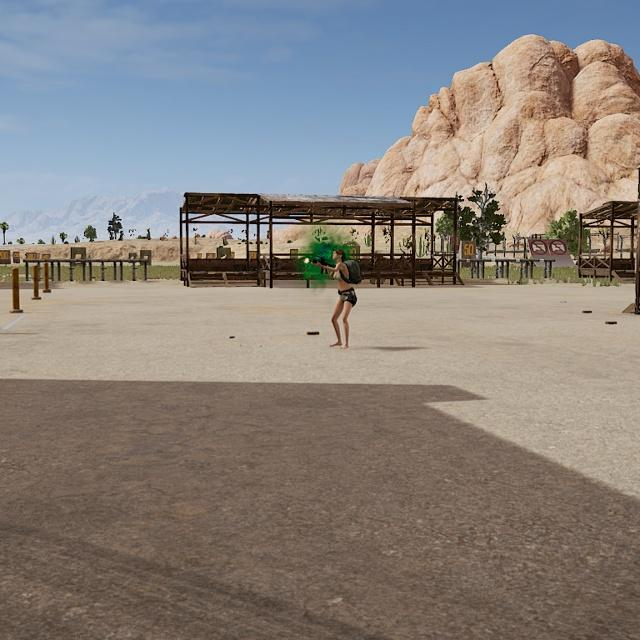head: (331, 247, 347, 266)
people: (323, 247, 359, 350)
